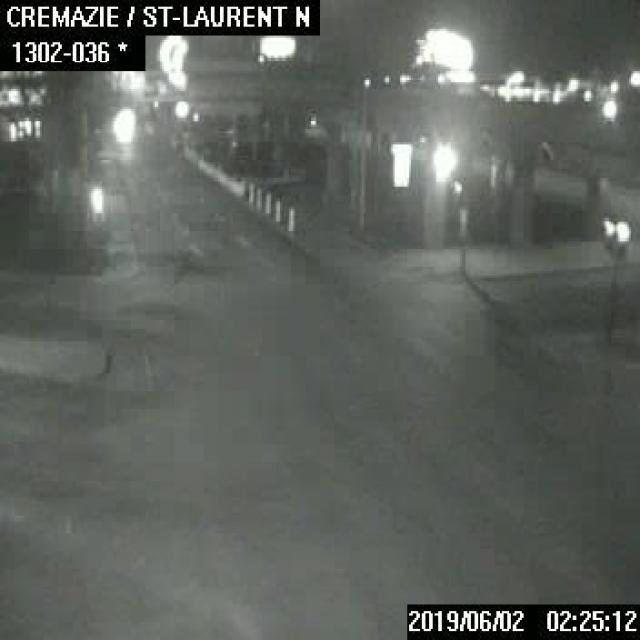construction: (285, 206, 293, 226), (255, 186, 261, 208), (274, 196, 280, 218), (264, 190, 270, 212), (248, 182, 254, 204)
